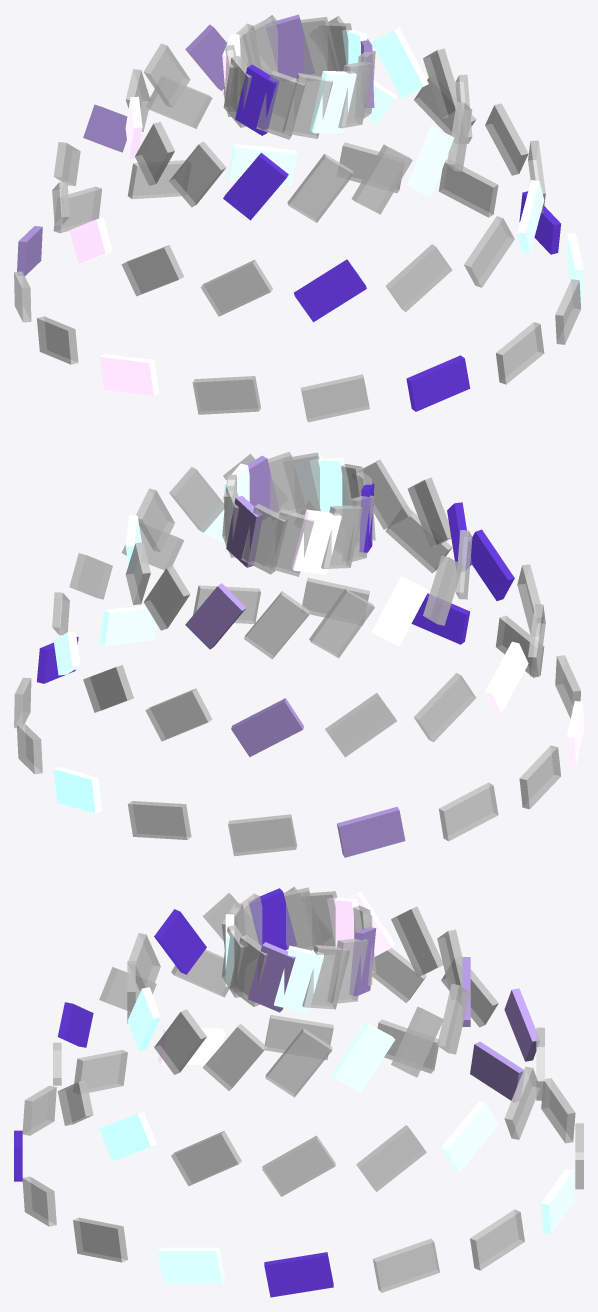
The model's file is FXGalaxyDome.fbx.
3 views of the same model, one above another, from view 1: azimuth 30°, elevation 25°; view 2: azimuth 150°, elevation 25°; view 3: azimuth 270°, elevation 25° (orthographic).
Visible parts, largest first — view 1: FX Galaxy Dome_body_46, FX Galaxy Dome_body_45, FX Galaxy Dome_body_44, FX Galaxy Dome_body_40, FX Galaxy Dome_body_41, FX Galaxy Dome_body_48, FX Galaxy Dome_body_42, FX Galaxy Dome_body_51, FX Galaxy Dome_body_49, FX Galaxy Dome_body_50, FX Galaxy Dome_body_15, FX Galaxy Dome_body_47 (+47 smaller); view 2: FX Galaxy Dome_body_20, FX Galaxy Dome_body_21, FX Galaxy Dome_body_24, FX Galaxy Dome_body_26, FX Galaxy Dome_body_27, FX Galaxy Dome_body_25, FX Galaxy Dome_body_22, FX Galaxy Dome_body_16, FX Galaxy Dome_body_29, FX Galaxy Dome_body_28, FX Galaxy Dome_body_17, FX Galaxy Dome_body_18 (+48 smaller); view 3: FX Galaxy Dome_body_1, FX Galaxy Dome_body_0, FX Galaxy Dome_body_2, FX Galaxy Dome_body_4, FX Galaxy Dome_body_60, FX Galaxy Dome_body_6, FX Galaxy Dome_body_5, FX Galaxy Dome_body_61, FX Galaxy Dome_body_36, FX Galaxy Dome_body_62, FX Galaxy Dome_body_3, FX Galaxy Dome_body_9 (+44 smaller).
Boxes of the visible parts, x1=… form: FX Galaxy Dome_body_46: x1=287, y1=153, x2=353, y2=222; FX Galaxy Dome_body_45: x1=294, y1=259, x2=366, y2=322; FX Galaxy Dome_body_44: x1=301, y1=374, x2=369, y2=422; FX Galaxy Dome_body_40: x1=192, y1=376, x2=260, y2=414; FX Galaxy Dome_body_41: x1=200, y1=259, x2=272, y2=316; FX Galaxy Dome_body_48: x1=406, y1=355, x2=470, y2=411; FX Galaxy Dome_body_42: x1=223, y1=152, x2=288, y2=220; FX Galaxy Dome_body_51: x1=310, y1=71, x2=356, y2=133; FX Galaxy Dome_body_49: x1=385, y1=244, x2=452, y2=311; FX Galaxy Dome_body_50: x1=351, y1=144, x2=412, y2=214; FX Galaxy Dome_body_15: x1=265, y1=14, x2=314, y2=81; FX Galaxy Dome_body_47: x1=283, y1=73, x2=332, y2=138; FX Galaxy Dome_body_20: x1=228, y1=814, x2=297, y2=856; FX Galaxy Dome_body_21: x1=231, y1=698, x2=304, y2=757; FX Galaxy Dome_body_24: x1=337, y1=807, x2=405, y2=857; FX Galaxy Dome_body_26: x1=309, y1=588, x2=374, y2=658; FX Galaxy Dome_body_27: x1=292, y1=509, x2=341, y2=574; FX Galaxy Dome_body_25: x1=325, y1=693, x2=396, y2=757; FX Galaxy Dome_body_22: x1=244, y1=591, x2=310, y2=659; FX Galaxy Dome_body_16: x1=127, y1=801, x2=191, y2=839; FX Galaxy Dome_body_29: x1=413, y1=673, x2=476, y2=742; FX Galaxy Dome_body_28: x1=439, y1=782, x2=498, y2=841; FX Galaxy Dome_body_17: x1=145, y1=688, x2=212, y2=741; FX Galaxy Dome_body_18: x1=185, y1=583, x2=245, y2=649; FX Galaxy Dome_body_1: x1=262, y1=1135, x2=335, y2=1196; FX Galaxy Dome_body_0: x1=264, y1=1252, x2=333, y2=1297; FX Galaxy Dome_body_2: x1=265, y1=1028, x2=332, y2=1097; FX Galaxy Dome_body_4: x1=373, y1=1238, x2=439, y2=1292; FX Galaxy Dome_body_60: x1=158, y1=1247, x2=225, y2=1283; FX Galaxy Dome_body_6: x1=331, y1=1022, x2=395, y2=1092; FX Galaxy Dome_body_5: x1=356, y1=1125, x2=426, y2=1191; FX Galaxy Dome_body_61: x1=171, y1=1130, x2=241, y2=1186; FX Galaxy Dome_body_36: x1=158, y1=1028, x2=224, y2=1064; FX Galaxy Dome_body_62: x1=202, y1=1023, x2=266, y2=1090; FX Galaxy Dome_body_3: x1=274, y1=945, x2=323, y2=1013; FX Galaxy Dome_body_9: x1=441, y1=1101, x2=498, y2=1171.
Bounding box in the file's own units: 800 × 401 × 800.
